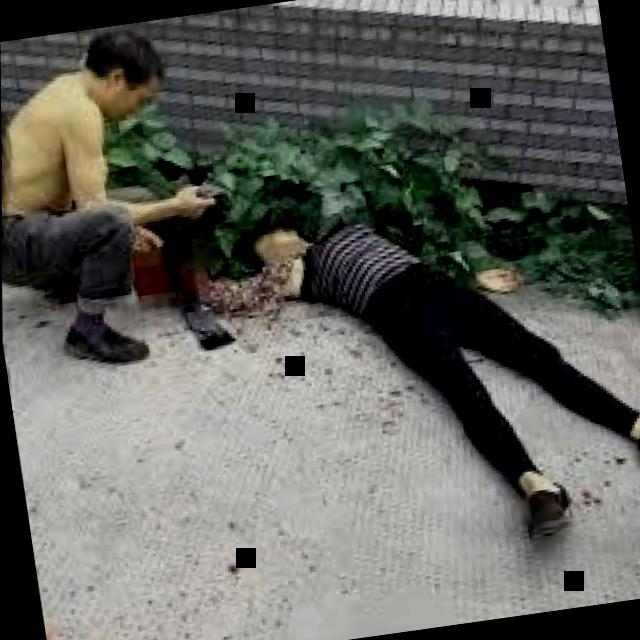Fall-Detected: (180, 144, 640, 594)
